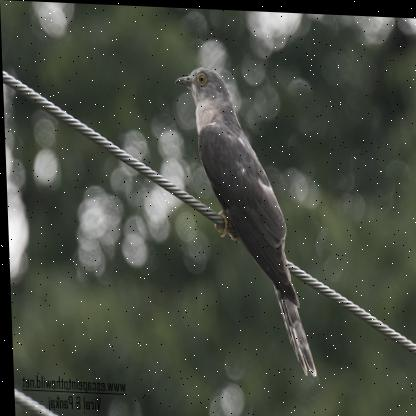Burung: (175, 63, 315, 374)
